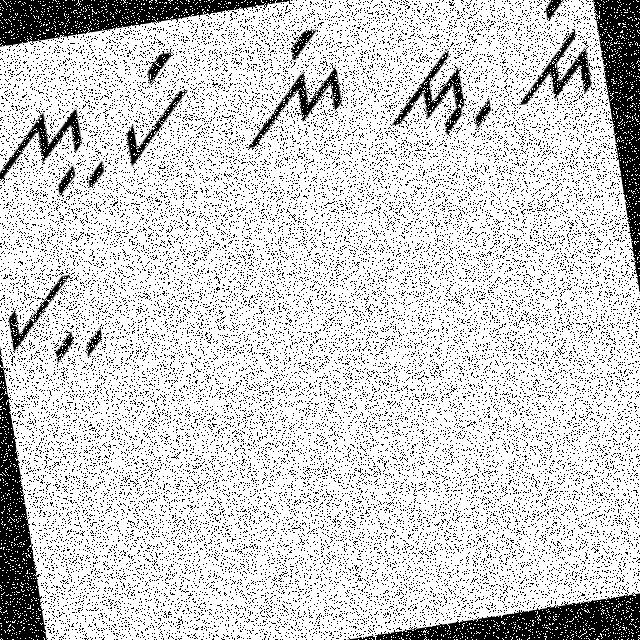dah: (376, 23, 503, 146)
dang: (499, 0, 604, 115)
nah: (0, 87, 116, 220)
nang: (219, 21, 357, 154)
pah: (0, 258, 116, 375)
pang: (108, 43, 205, 174)
